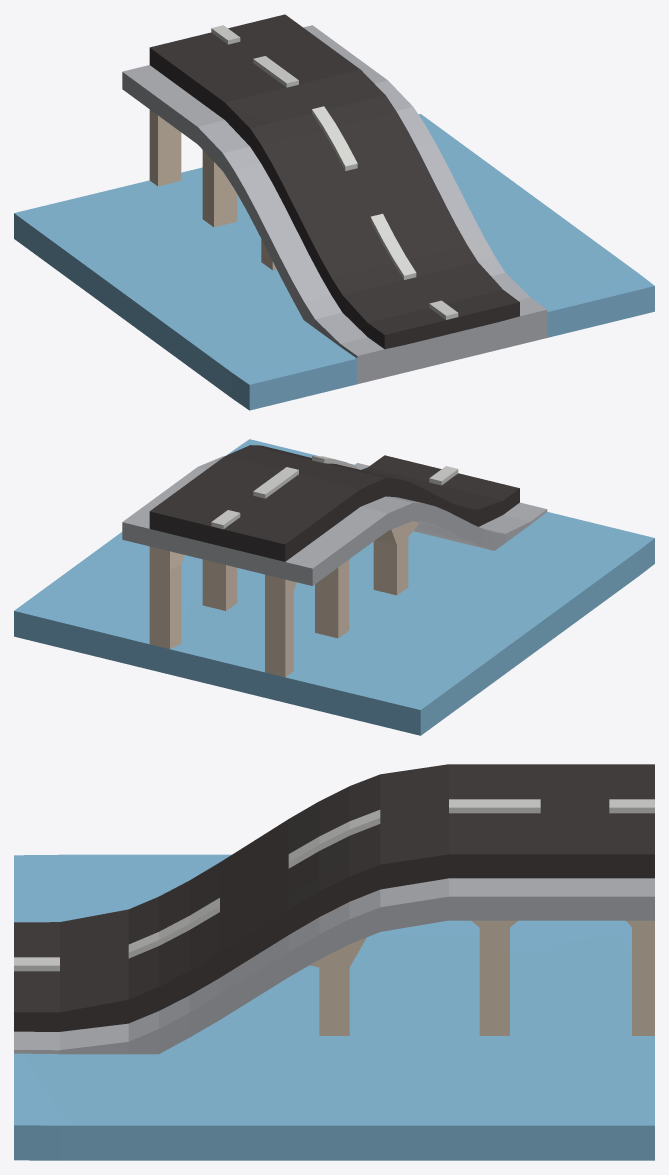
Rendered from Street_Bridge_WaterRamp.glb.
3 views of the same model, one above another, from view 1: azimuth 30°, elevation 25°; view 2: azimuth 150°, elevation 25°; view 3: azimuth 270°, elevation 25° (orthographic). The views are drawn at different scales.
Parts seen in each view (by area): view 1: Street_Bridge_WaterRamp.obj; view 2: Street_Bridge_WaterRamp.obj; view 3: Street_Bridge_WaterRamp.obj.
Boxes of the visible parts, x1,y1,x2,y2 form: Street_Bridge_WaterRamp.obj: (14, 14, 654, 410); Street_Bridge_WaterRamp.obj: (14, 439, 654, 735); Street_Bridge_WaterRamp.obj: (14, 764, 654, 1160).
Bounding box in the file's own units: 2 × 0.7638 × 2.
